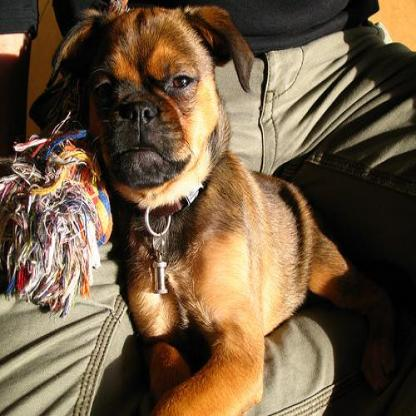Brabancon_griffon: (27, 2, 357, 414)
